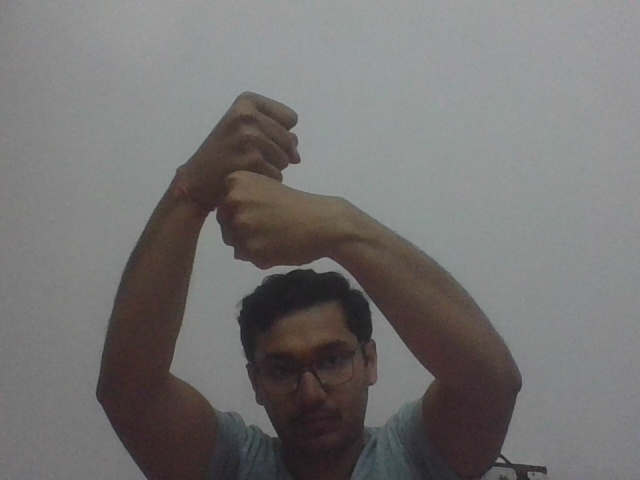G: (206, 82, 337, 269)
